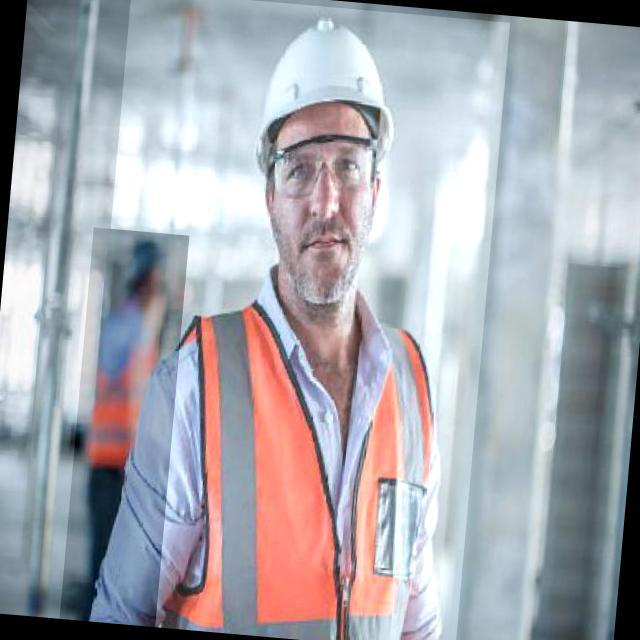Helmet: (251, 11, 405, 190)
Person: (49, 0, 534, 640)
Safety Vest: (155, 292, 444, 640), (82, 311, 163, 476)
